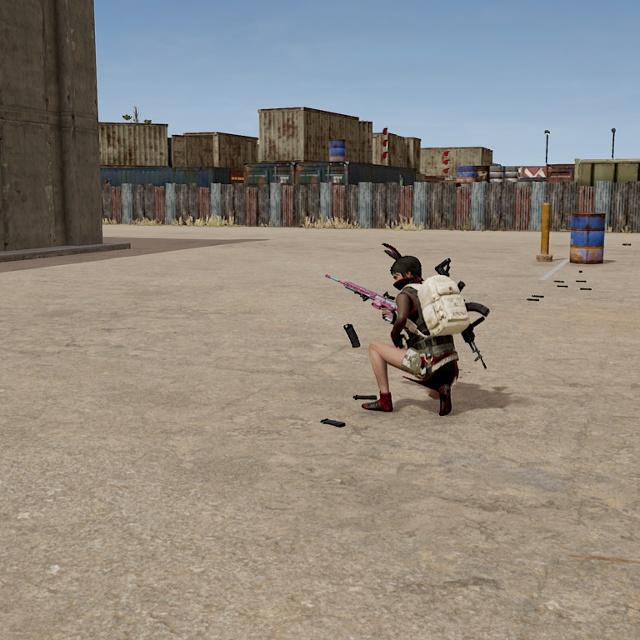head: (390, 254, 424, 288)
people: (361, 254, 464, 420)
